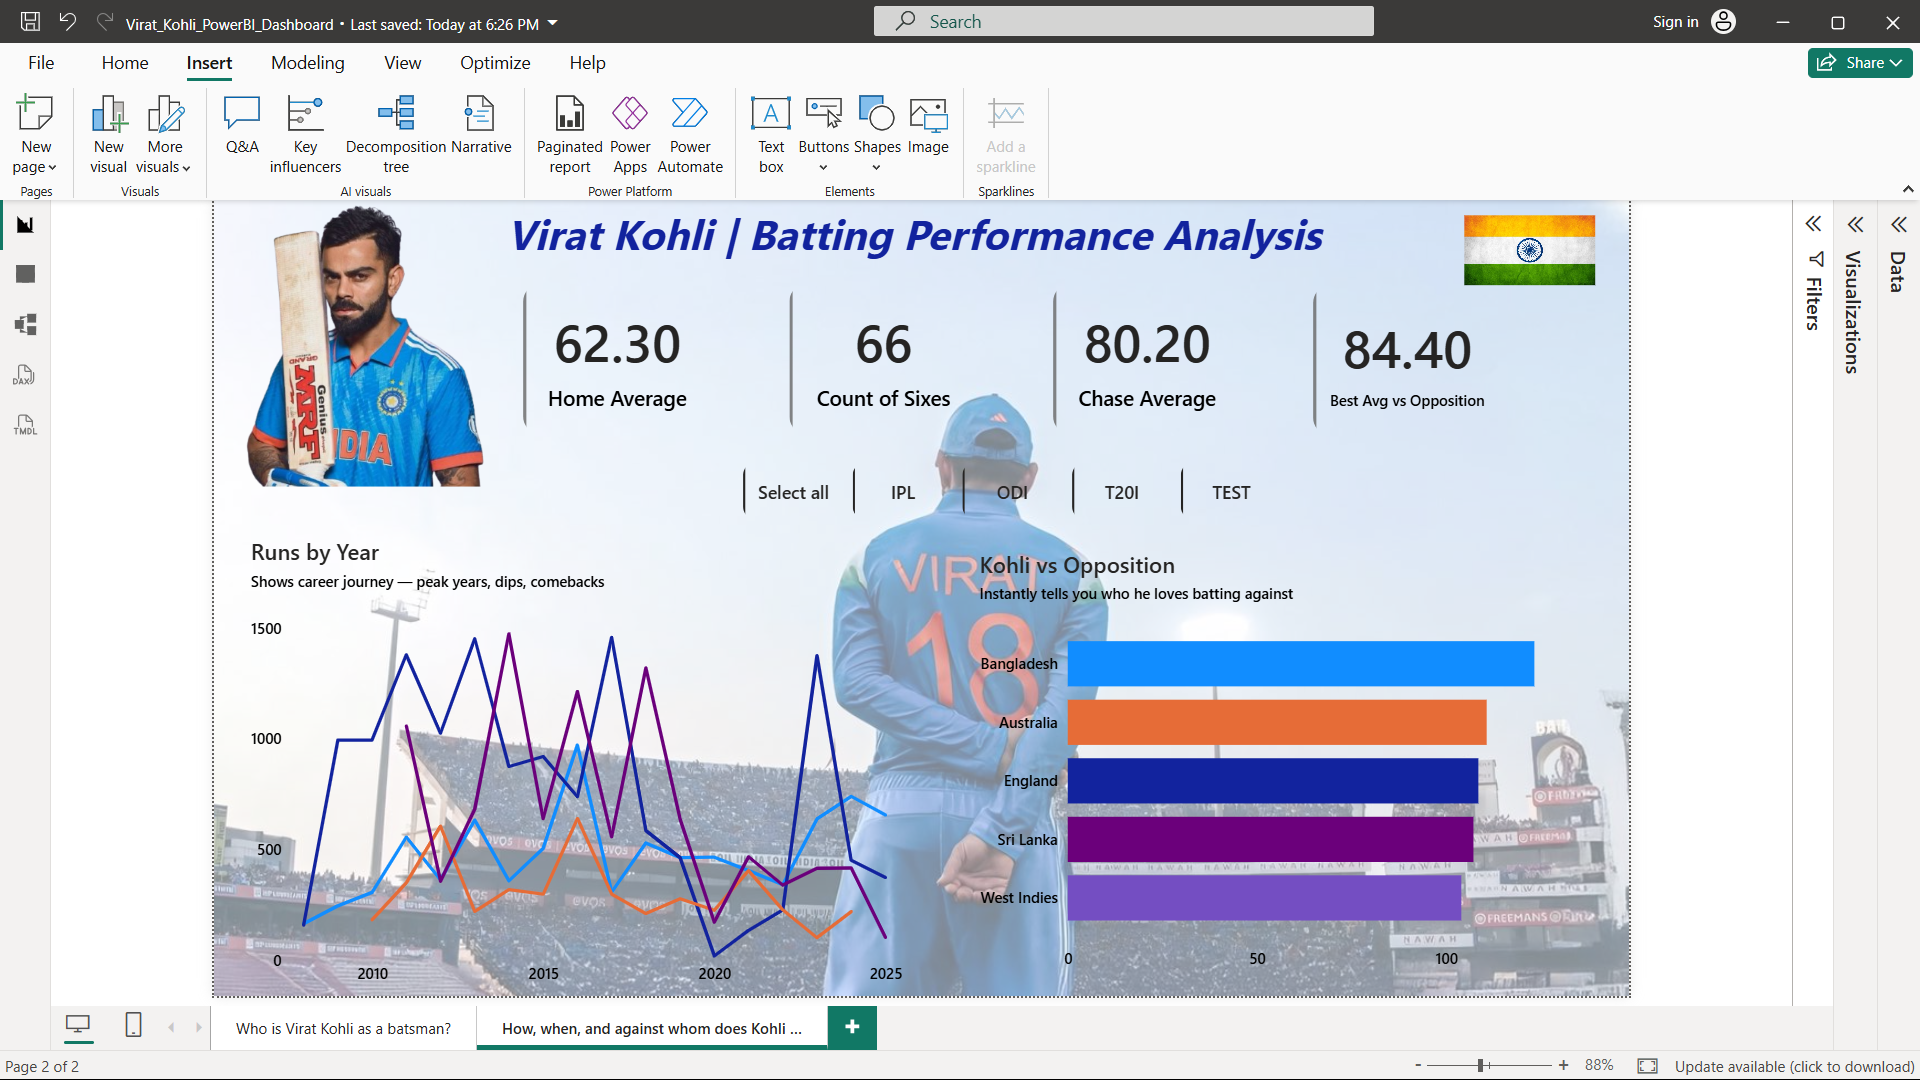

The dashboard page shown, as its layout file describes it:
{"tool":"powerbi","page":{"name":"How, when, and against whom does Kohli perform?","canvas":[1280,720],"ordinal":1},"visuals":[{"type":"cardVisual","fields":{"Data":["All_Measures.Home Average"]},"box":[274.4,68.6,180.2,150],"z":0},{"type":"cardVisual","fields":{"Data":["All_Measures.Chase Average"]},"box":[754.7,68.6,180.2,150],"z":1000},{"type":"cardVisual","fields":{"Data":["CountNonNull(Yearly_Performance.Sixes)"]},"box":[515.1,68.6,180.2,150],"z":2000},{"type":"cardVisual","fields":{"Data":["All_Measures.Best Avg vs Opposition"]},"box":[989.5,69.8,180.2,150],"z":3000},{"type":"barChart","title":"Kohli vs Opposition ","fields":{"Category":["vs_Opposition.Opposition"],"Y":["Sum(vs_Opposition.Average)"]},"box":[687.2,315.1,580.2,389.5],"z":4000},{"type":"textbox","box":[260.5,0,819.8,59.3],"z":7001},{"type":"lineChart","title":"Runs by Year","fields":{"Series":["Yearly_Performance.Format"],"Category":["Yearly_Performance.Year"],"Y":["Sum(Yearly_Performance.Runs)"]},"box":[27.9,304.7,630.2,415.1],"z":7002},{"type":"image","box":[0,0,266.3,264],"z":7004},{"type":"image","box":[1125.6,9.3,127.9,73.3],"z":7005},{"type":"advancedSlicerVisual","fields":{"Values":["Career_Summary.Format"]},"box":[473.3,231.4,500,64],"z":7006}]}

Visuals, with their boxes on the page's 1280x720 design canvas (x1, y1, x2, y2). These are canvas units, not pixel positions in the 1920x1080 screenshot, which may show the page scaled, cropped or inside an application window:
cardVisual - All_Measures.Home Average: [x1=274, y1=69, x2=455, y2=219]
cardVisual - All_Measures.Chase Average: [x1=755, y1=69, x2=935, y2=219]
cardVisual - CountNonNull(Yearly_Performance.Sixes): [x1=515, y1=69, x2=695, y2=219]
cardVisual - All_Measures.Best Avg vs Opposition: [x1=990, y1=70, x2=1170, y2=220]
"Kohli vs Opposition " barChart: [x1=687, y1=315, x2=1267, y2=705]
textbox: [x1=260, y1=0, x2=1080, y2=59]
"Runs by Year" lineChart: [x1=28, y1=305, x2=658, y2=720]
image: [x1=0, y1=0, x2=266, y2=264]
image: [x1=1126, y1=9, x2=1254, y2=83]
advancedSlicerVisual - Career_Summary.Format: [x1=473, y1=231, x2=973, y2=295]
